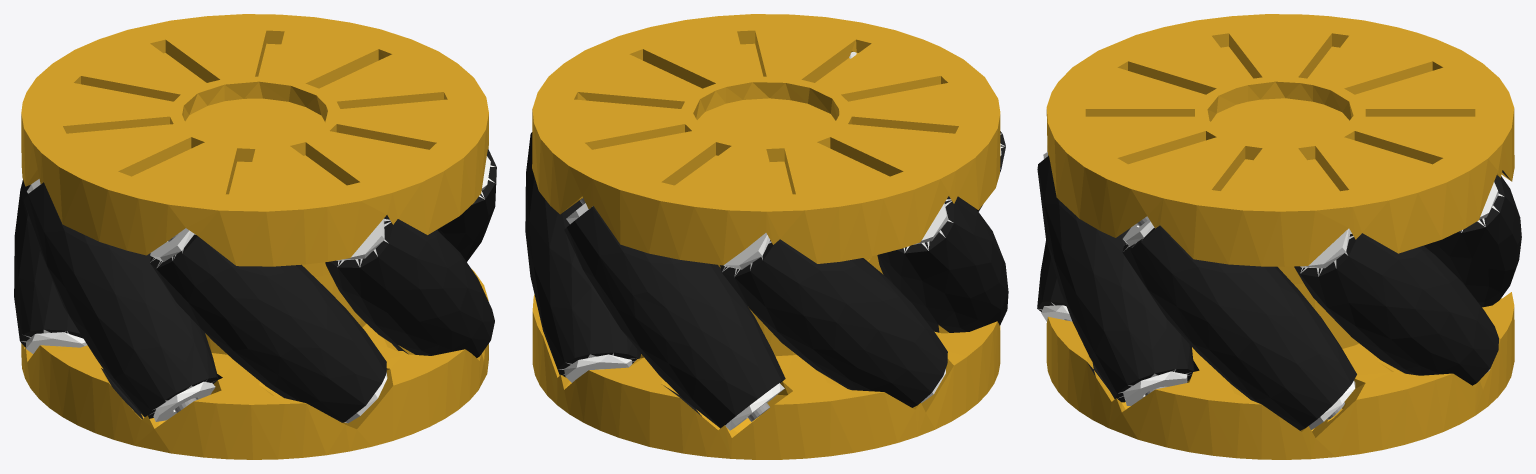
File: front_left_wheel.obj
3 renders of one model, left to right at view 1: azimuth 30°, elevation 25°; view 2: azimuth 150°, elevation 25°; view 3: azimuth 270°, elevation 25°, orthographic.
Size of the model in its own units: 0.0397 by 0.0225 by 0.0398.
